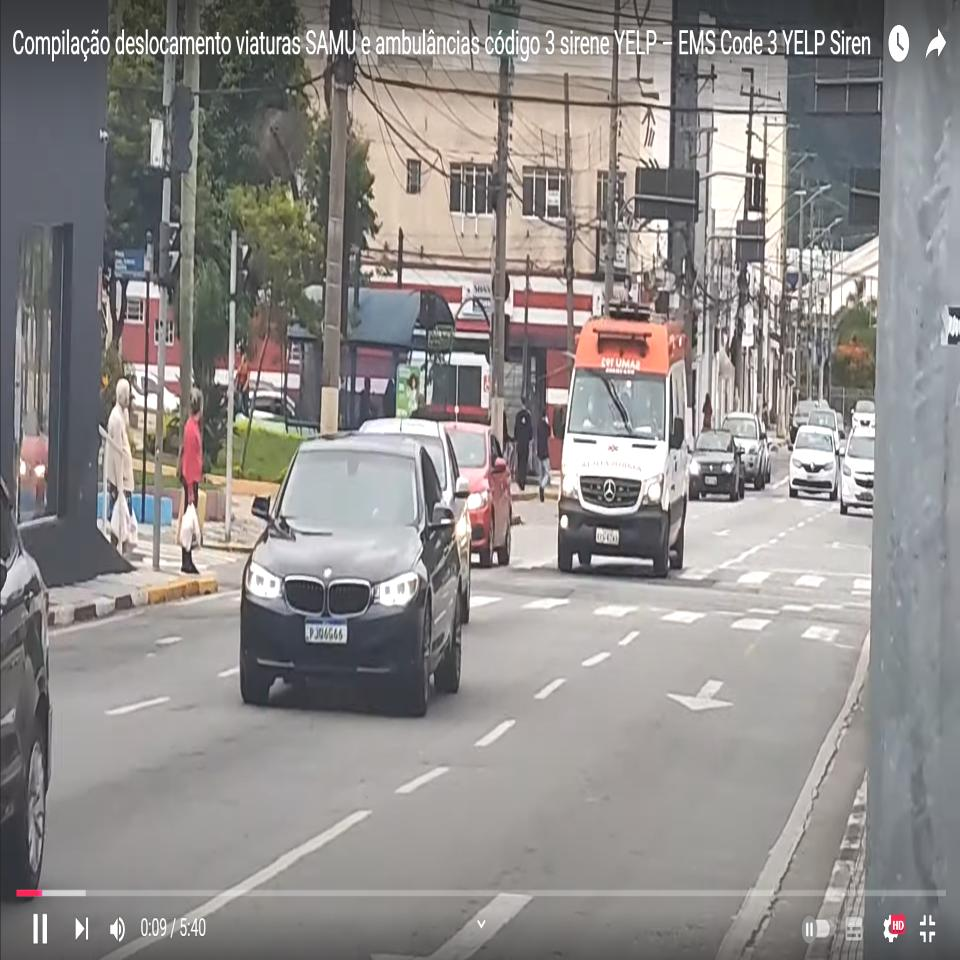ambulancia: (552, 312, 692, 580)
